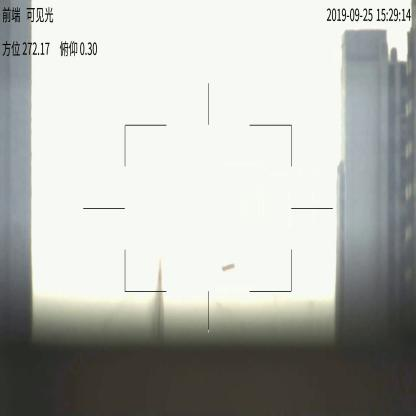uav: (222, 264, 235, 274)
